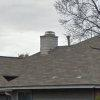Chimney: (29, 23, 62, 56)
